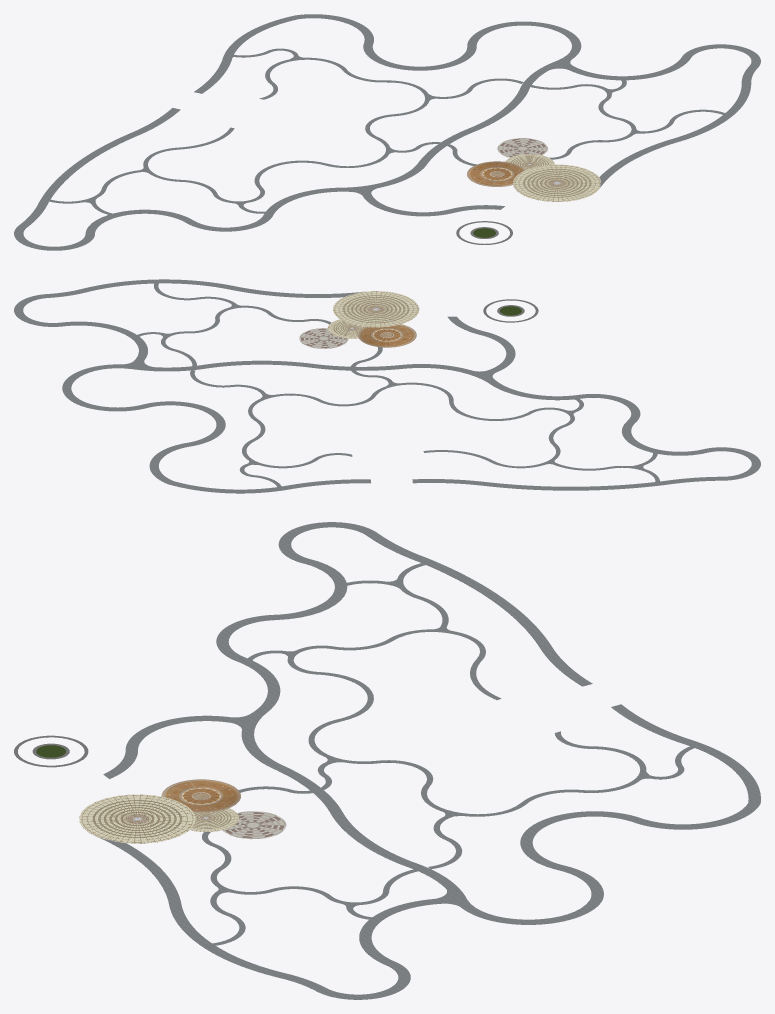
Rendered from shangyequgongyuan2.gltf.
3 views of the same model, one above another, from view 1: azimuth 30°, elevation 25°; view 2: azimuth 150°, elevation 25°; view 3: azimuth 270°, elevation 25° (orthographic). The views are drawn at different scales.
Parts seen in each view (by area): view 1: Obj3d66-602692-6-599, Obj3d66-602692-7-218, Obj3d66-602692-182-813, Obj3d66-602692-180-810, Obj3d66-602692-181-206, Obj3d66-602692-179-442, Obj3d66-602692-174-609; view 2: Obj3d66-602692-6-599, Obj3d66-602692-7-218, Obj3d66-602692-182-813, Obj3d66-602692-180-810, Obj3d66-602692-181-206, Obj3d66-602692-179-442, Obj3d66-602692-174-609; view 3: Obj3d66-602692-6-599, Obj3d66-602692-7-218, Obj3d66-602692-182-813, Obj3d66-602692-180-810, Obj3d66-602692-181-206, Obj3d66-602692-179-442.
Boxes of the visible parts, box(x1,y1,x2,y2) form: Obj3d66-602692-6-599: box(14, 14, 760, 250); Obj3d66-602692-7-218: box(49, 48, 724, 214); Obj3d66-602692-182-813: box(513, 164, 601, 201); Obj3d66-602692-180-810: box(467, 161, 525, 186); Obj3d66-602692-181-206: box(497, 138, 547, 157); Obj3d66-602692-179-442: box(505, 154, 554, 169); Obj3d66-602692-174-609: box(456, 221, 512, 244); Obj3d66-602692-6-599: box(14, 279, 760, 493); Obj3d66-602692-7-218: box(137, 283, 659, 486); Obj3d66-602692-182-813: box(333, 291, 419, 327); Obj3d66-602692-180-810: box(357, 324, 416, 347); Obj3d66-602692-181-206: box(299, 328, 348, 348); Obj3d66-602692-179-442: box(327, 319, 364, 338); Obj3d66-602692-174-609: box(483, 299, 538, 322); Obj3d66-602692-6-599: box(98, 522, 760, 999); Obj3d66-602692-7-218: box(202, 563, 694, 945); Obj3d66-602692-182-813: box(79, 794, 195, 843); Obj3d66-602692-180-810: box(161, 779, 240, 812); Obj3d66-602692-181-206: box(222, 811, 286, 839); Obj3d66-602692-179-442: box(189, 808, 238, 831).
Bounding box in the file's own units: 726 × 0.04 × 480.
Materials: 8 (7 with a texture image).
